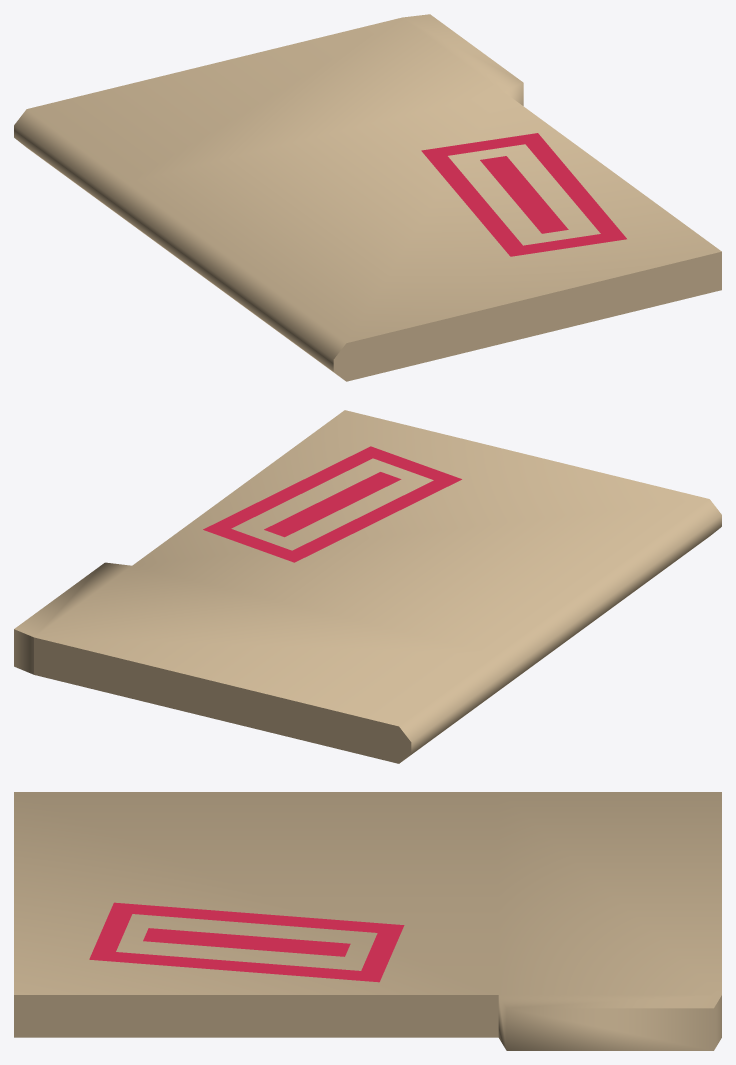
File: criminal record.fbx
3 views of the same model, one above another, from view 1: azimuth 30°, elevation 25°; view 2: azimuth 150°, elevation 25°; view 3: azimuth 270°, elevation 25° (orthographic). The views are drawn at different scales.
Visible parts, largest first — view 1: criminal record; view 2: criminal record; view 3: criminal record.
Part boxes in pixels (<box>): criminal record: <box>14,14,721,381</box>; criminal record: <box>14,410,721,763</box>; criminal record: <box>14,792,721,1050</box>.
Size of the model in its own units: 0.3051 by 0.0289 by 0.4097.
